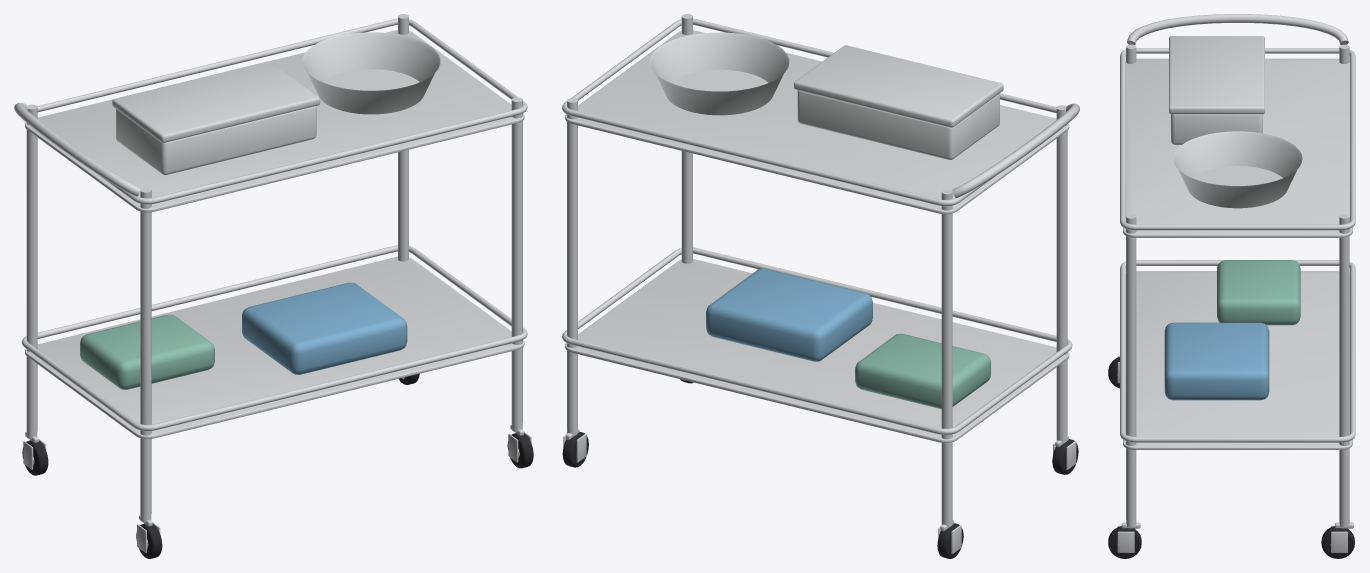
Rendered from chariot.glb.
3 views of the same model, side by side, from view 1: azimuth 30°, elevation 25°; view 2: azimuth 150°, elevation 25°; view 3: azimuth 270°, elevation 25° (orthographic). The views are drawn at different scales.
Parts seen in each view (by area): view 1: chariot; view 2: chariot; view 3: chariot.
Part boxes in pixels (<box>): chariot: <box>14,14,533,558</box>; chariot: <box>562,14,1079,558</box>; chariot: <box>1108,14,1355,558</box>.
Bounding box in the file's own units: 1.08 × 0.975 × 0.592.
